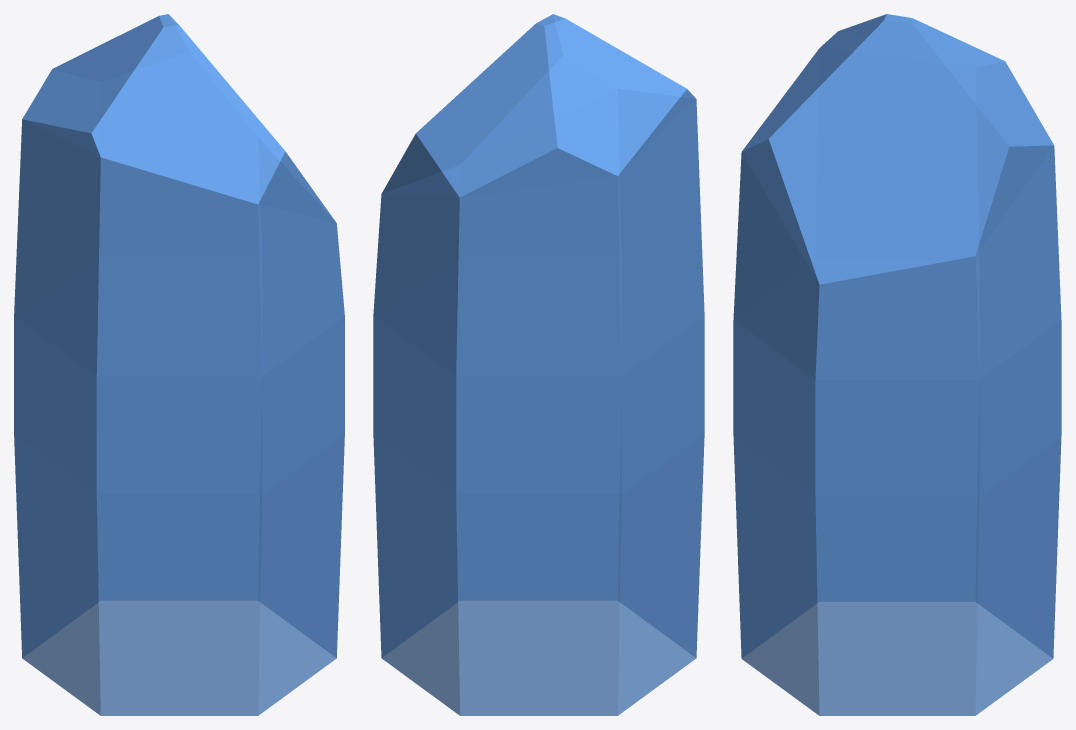
The model's file is Crystal_m_11.fbx.
3 views of the same model, side by side, from view 1: azimuth 30°, elevation 25°; view 2: azimuth 150°, elevation 25°; view 3: azimuth 270°, elevation 25° (orthographic).
Parts seen in each view (by area): view 1: Crystal_m_11; view 2: Crystal_m_11; view 3: Crystal_m_11.
Part boxes in pixels (x1,y1,x2,y2): Crystal_m_11: [14, 14, 344, 715]; Crystal_m_11: [373, 14, 704, 715]; Crystal_m_11: [733, 14, 1061, 715].
Size of the model in its own units: 85.03 by 210 by 98.18.
